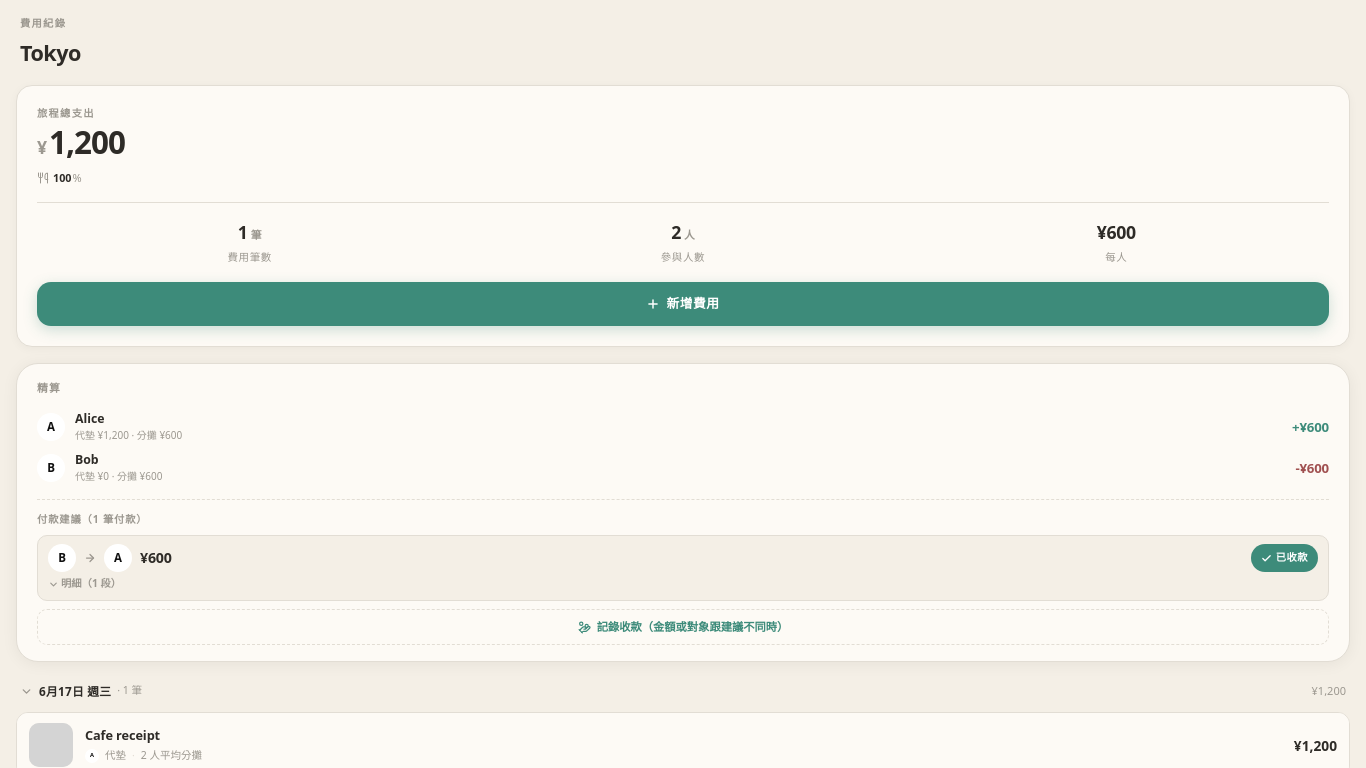
Test: ExpensePage read-first expense flow › opens the read-only detail sheet before editing an expense
Click the button with aria-label "顯示 Cafe receipt 的詳細資料": [123, 735] box [85, 726, 1337, 764]
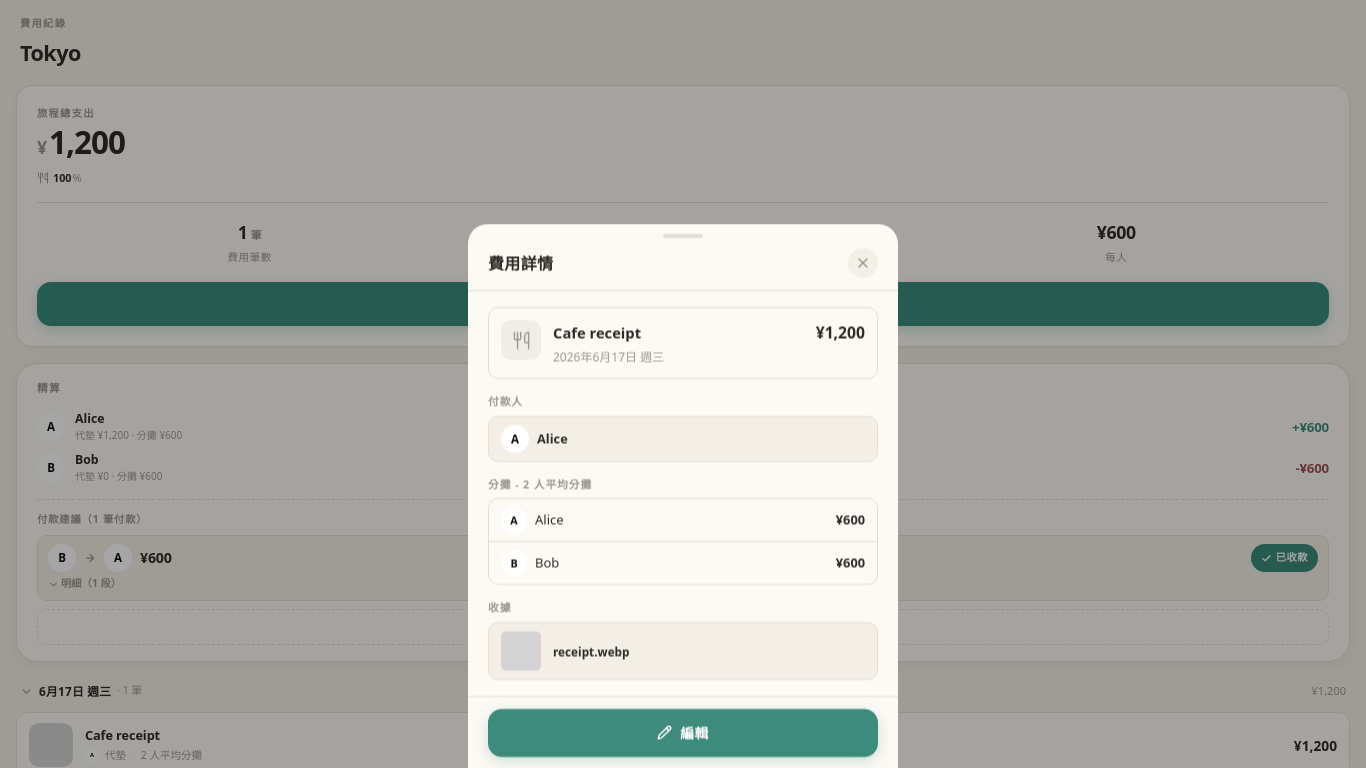
Expected: the dialog "費用詳情" is shown, [468, 224, 898, 767]
Expected: the button "編輯" is shown, [488, 708, 878, 756]
